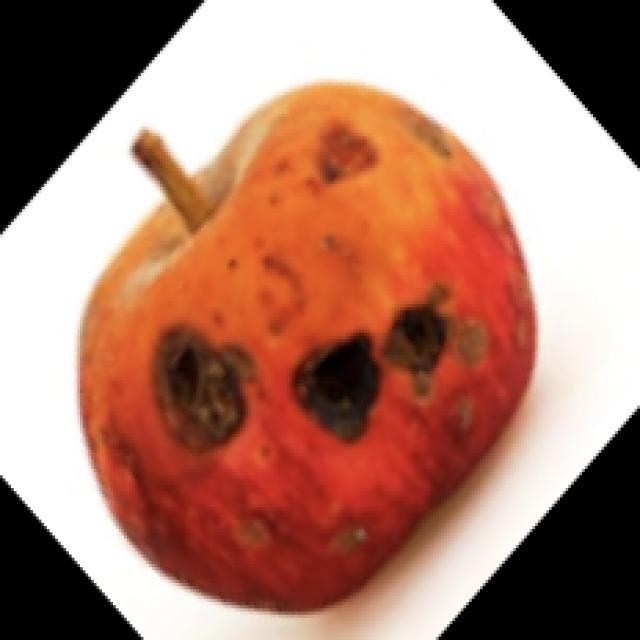Rotten: (78, 68, 545, 610)
